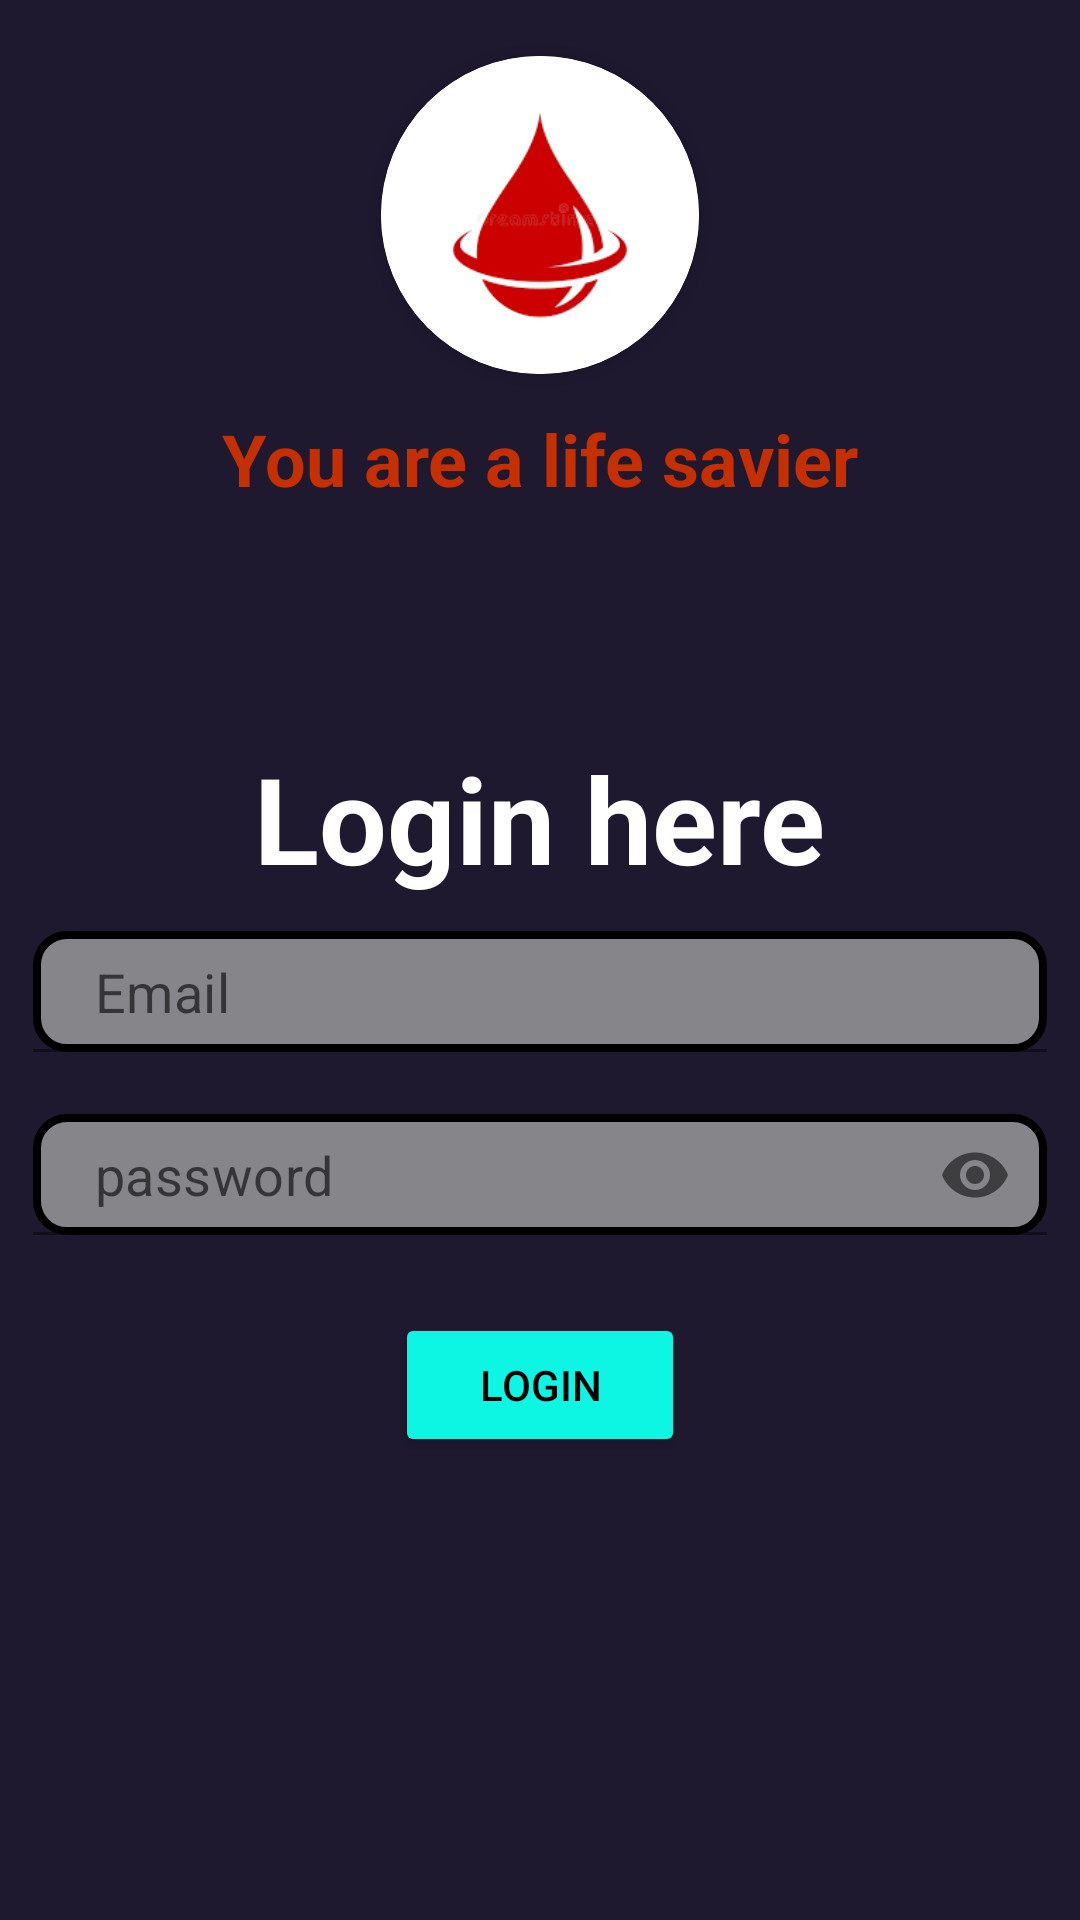

Icons on this 1080*1920 Android screen, each with its box as (x1, y1, x2, y2):
bloodnewnew: (381, 56, 699, 374)
